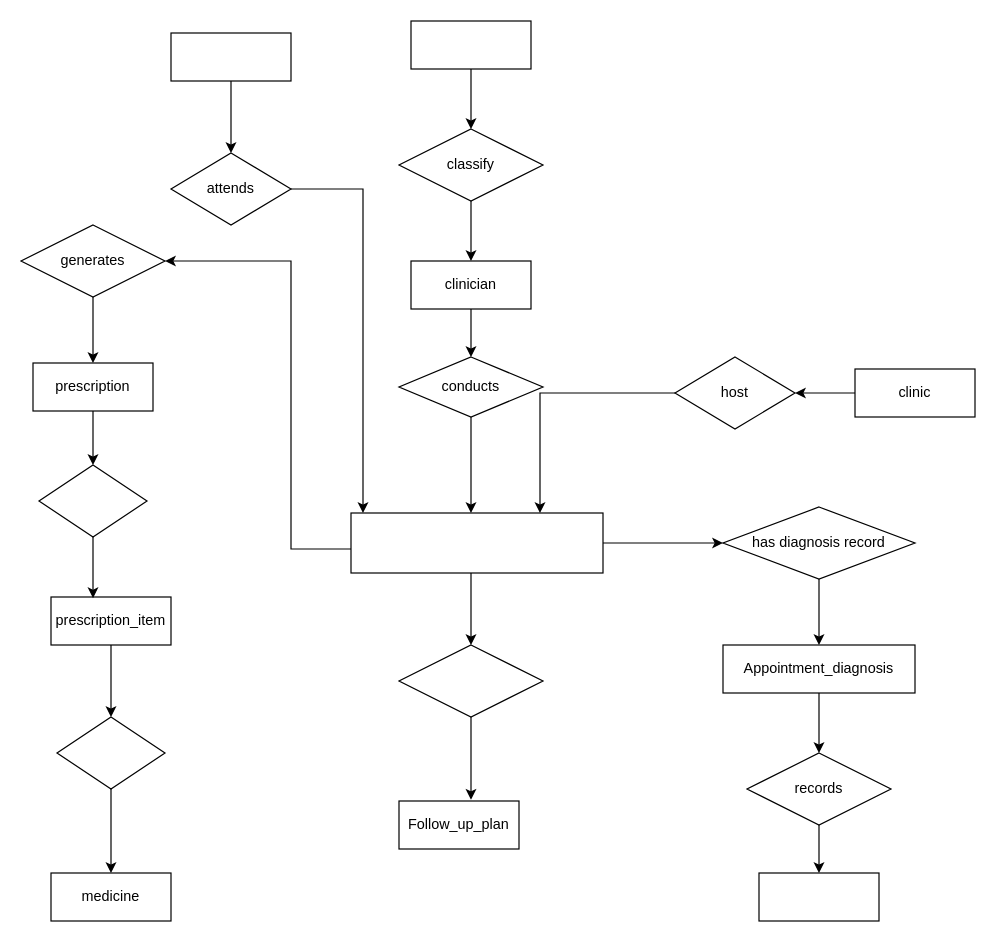
This 996x942 diagram has some shape labels left out. The shapes that lost their labels are listed below. From the top down, each one's centre as x and y in pixels, then its label:
(230,56): patient
(470,44): speciality
(92,500): contains
(476,542): appointment
(470,680): has
(110,752): specify
(818,896): diagnosis
